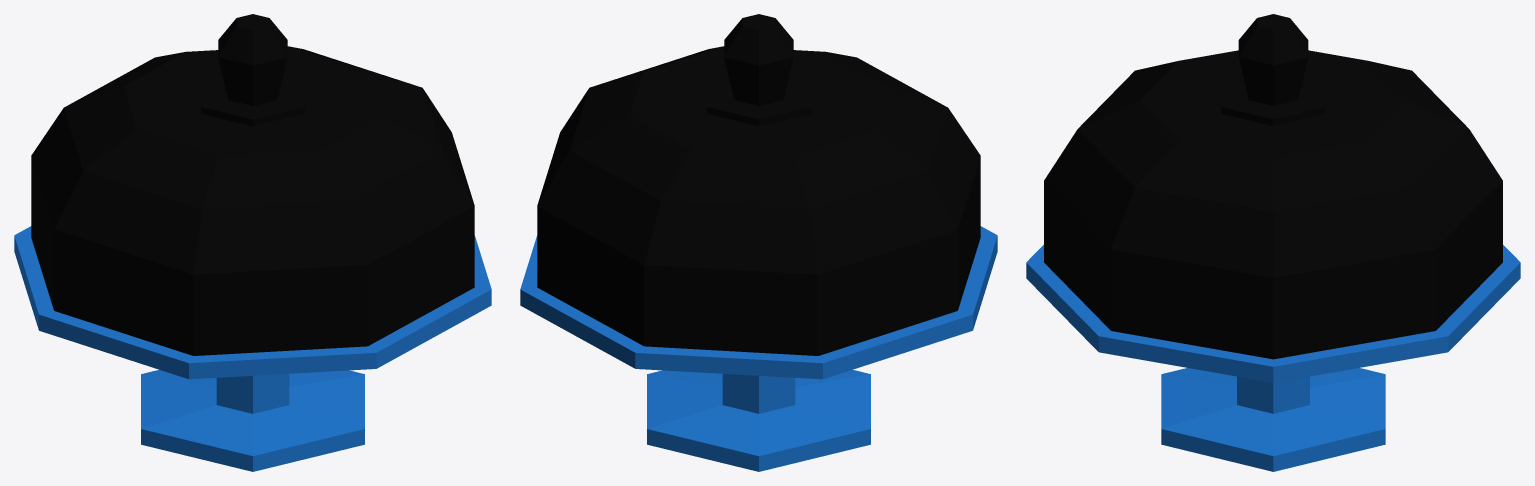
Rendered from SM_showcase.fbx.
3 renders of one model, left to right at view 1: azimuth 30°, elevation 25°; view 2: azimuth 150°, elevation 25°; view 3: azimuth 270°, elevation 25°, orthographic.
Parts seen in each view (by area): view 1: Cylinder_14, Cylinder_16; view 2: Cylinder_14, Cylinder_16; view 3: Cylinder_14, Cylinder_16.
Part boxes in pixels (bbox=[...]): Cylinder_14: bbox=[31, 14, 474, 355]; Cylinder_16: bbox=[14, 226, 491, 471]; Cylinder_14: bbox=[537, 14, 980, 355]; Cylinder_16: bbox=[520, 226, 997, 471]; Cylinder_14: bbox=[1044, 14, 1502, 359]; Cylinder_16: bbox=[1026, 245, 1520, 471].
Size of the model in its own units: 43.23 by 38.14 by 43.23.
